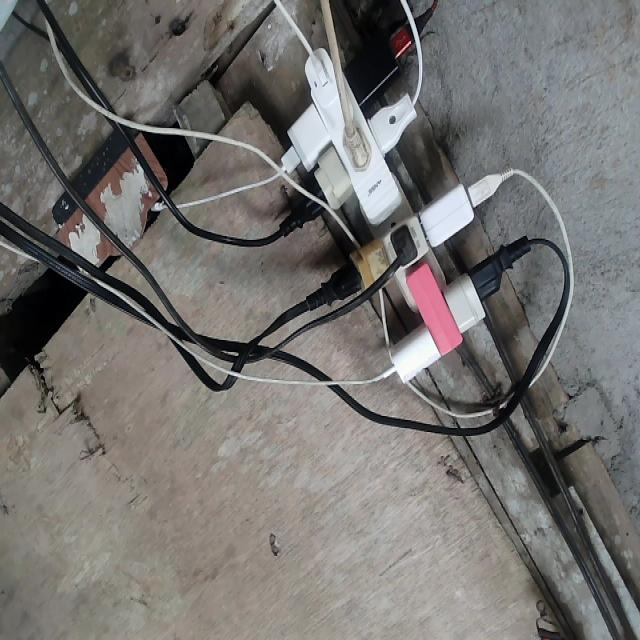-: (272, 48, 509, 385)
